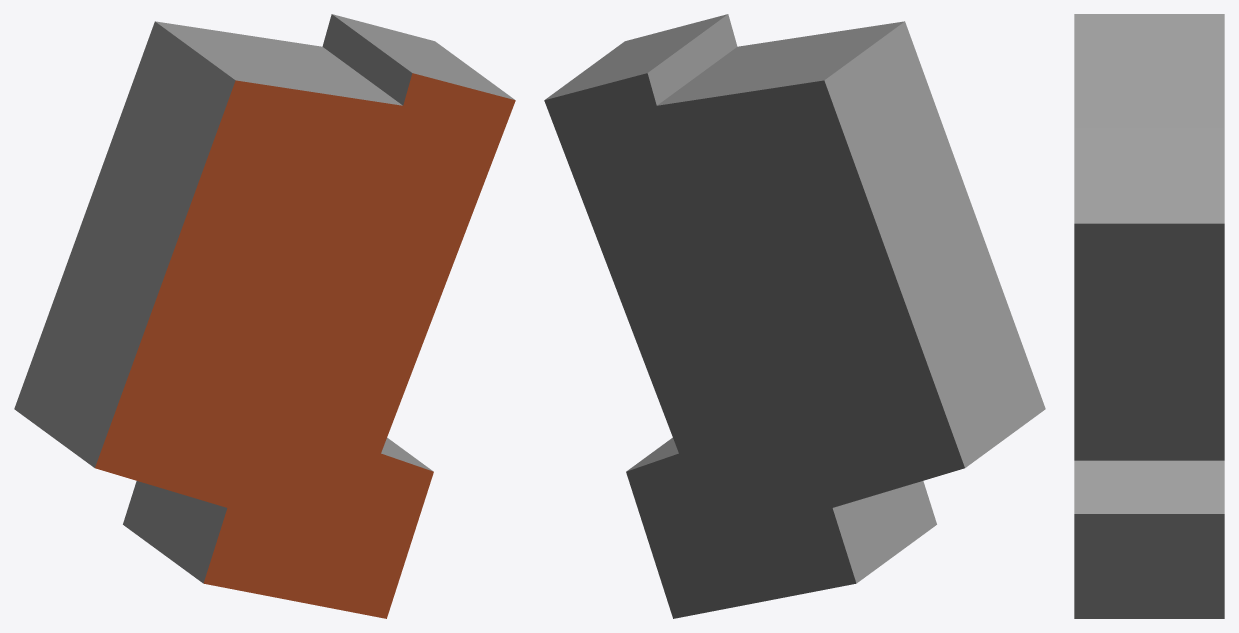
The model's file is construction_3879_assumed_A_Casa_h6m.obj.
3 renders of one model, left to right at view 1: azimuth 30°, elevation 25°; view 2: azimuth 150°, elevation 25°; view 3: azimuth 270°, elevation 25°, orthographic. The views are drawn at different scales.
Parts seen in each view (by area): view 1: construction_3879_assumed_A_Casa; view 2: construction_3879_assumed_A_Casa; view 3: construction_3879_assumed_A_Casa.
Part boxes in pixels (x1,y1,x2,y2): construction_3879_assumed_A_Casa: [14, 14, 515, 618]; construction_3879_assumed_A_Casa: [544, 14, 1045, 618]; construction_3879_assumed_A_Casa: [1074, 14, 1224, 618].
Bounding box in the file's own units: 18.07 × 23.6 × 6.
